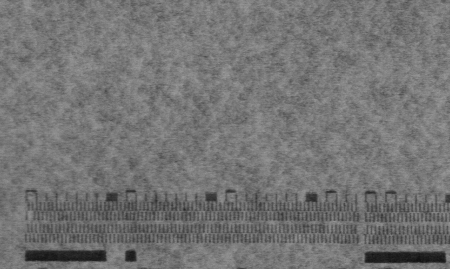Broken hole: (24, 211, 38, 224)
